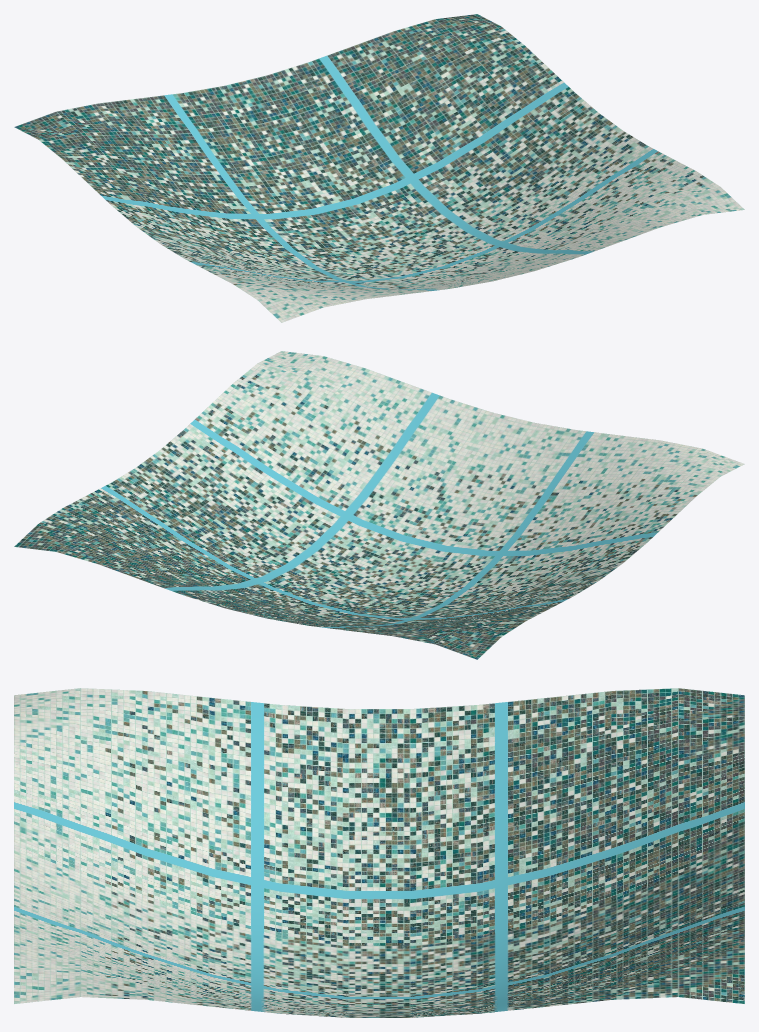
Rendered from RoundedPlatform_3.fbx.
3 renders of one model, top to bottom at view 1: azimuth 30°, elevation 25°; view 2: azimuth 150°, elevation 25°; view 3: azimuth 270°, elevation 25°, orthographic. The views are drawn at different scales.
Visible parts, largest first — view 1: RoundedPlatform_3; view 2: RoundedPlatform_3; view 3: RoundedPlatform_3.
Part boxes in pixels (bbox=[...]): RoundedPlatform_3: bbox=[14, 14, 744, 322]; RoundedPlatform_3: bbox=[14, 351, 744, 659]; RoundedPlatform_3: bbox=[14, 688, 744, 1017].
Size of the model in its own units: 700 by 123 by 700.
